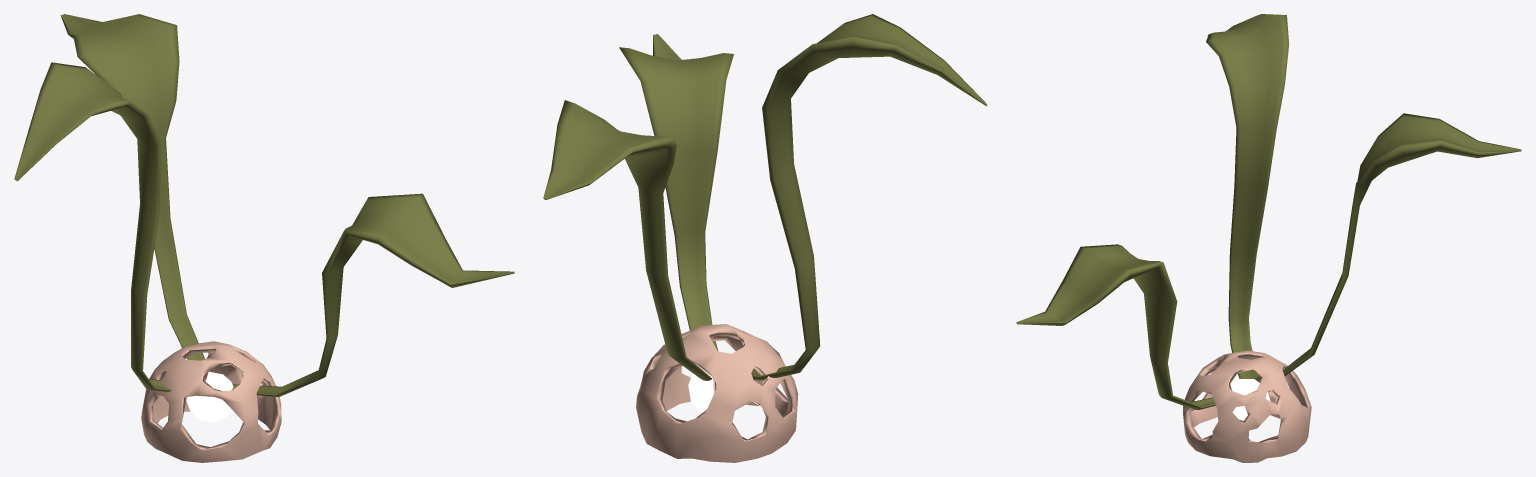
Rendered from TurtleUrchinB.fbx.
The picture shows the model from 3 angles, left to right: view 1: azimuth 30°, elevation 25°; view 2: azimuth 150°, elevation 25°; view 3: azimuth 270°, elevation 25°; orthographic projection. The views are drawn at different scales.
Parts seen in each view (by area): view 1: AloeStalk_low.001, OutCage_low.002, MiddleBall_low.002; view 2: AloeStalk_low.001, OutCage_low.002, MiddleBall_low.002; view 3: AloeStalk_low.001, OutCage_low.002, MiddleBall_low.002.
Part boxes in pixels (x1,y1,x2,y2): AloeStalk_low.001: (14, 14, 514, 397); OutCage_low.002: (141, 341, 281, 462); MiddleBall_low.002: (186, 371, 233, 422); AloeStalk_low.001: (543, 14, 987, 380); OutCage_low.002: (636, 324, 798, 462); MiddleBall_low.002: (688, 370, 713, 411); AloeStalk_low.001: (1016, 14, 1521, 410); OutCage_low.002: (1183, 350, 1311, 462); MiddleBall_low.002: (1231, 379, 1270, 420).
Size of the model in its own units: 438 by 415 by 527.
